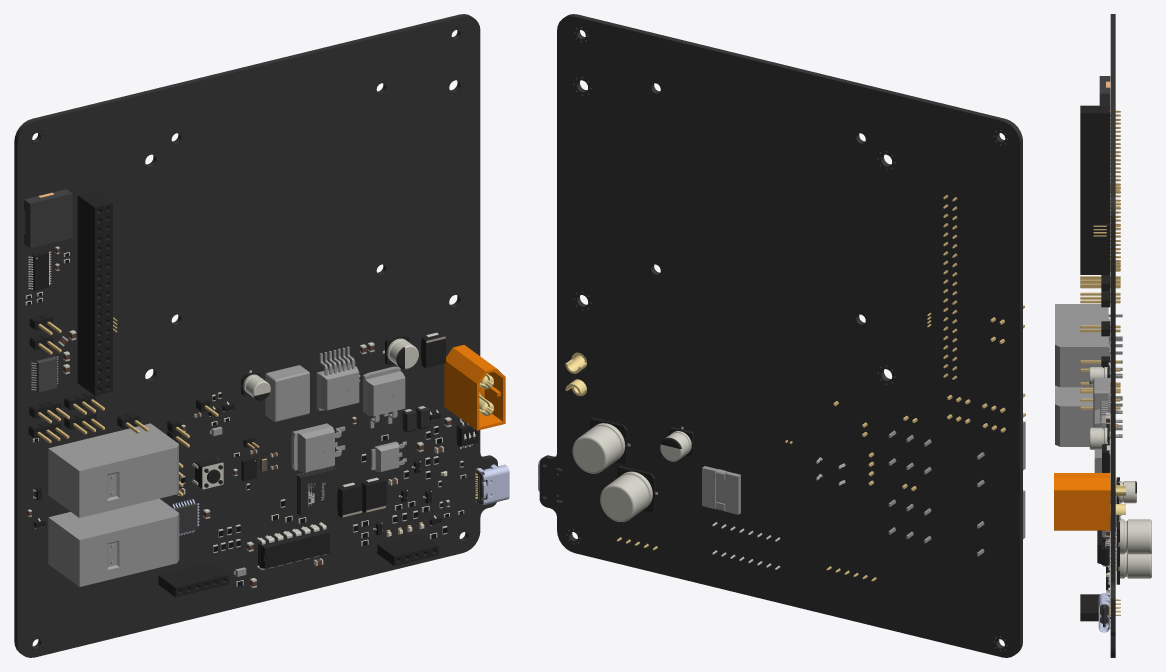
File: unibots.obj
The picture shows the model from 3 angles, left to right: view 1: azimuth 30°, elevation 25°; view 2: azimuth 150°, elevation 25°; view 3: azimuth 270°, elevation 25°; orthographic projection. The views are drawn at different scales.
Visible parts, largest first — view 1: Body1:46, Body1:31, Body1:138, Body1:12, Body3, Body3:6, Body1:11, Body1:24, Body1:34, Body1:30, Body1:132, Body1:22 (+10 smaller); view 2: Body1:46, Body1:154, Body1:45, Body1:33, Body1:153; view 3: Body1:12, Body1:31, Body1:46, Body3, Body1:138, Body1:154, Body1:45, Body1:32, Body1:123, Body1:24, Body1:27, Body1:101 (+14 smaller).
Part boxes in pixels (x1=…): Body1:46: x1=14, y1=14, x2=497, y2=657; Body1:31: x1=48, y1=423, x2=178, y2=517; Body1:138: x1=48, y1=498, x2=179, y2=586; Body1:12: x1=77, y1=191, x2=112, y2=395; Body3: x1=444, y1=345, x2=505, y2=430; Body3:6: x1=24, y1=189, x2=72, y2=248; Body1:11: x1=257, y1=522, x2=329, y2=570; Body1:24: x1=265, y1=365, x2=309, y2=421; Body1:34: x1=296, y1=466, x2=336, y2=515; Body1:30: x1=295, y1=423, x2=334, y2=472; Body1:132: x1=363, y1=371, x2=405, y2=416; Body1:22: x1=316, y1=364, x2=359, y2=410; Body1:46: x1=539, y1=14, x2=1022, y2=657; Body1:154: x1=572, y1=417, x2=630, y2=473; Body1:45: x1=600, y1=466, x2=657, y2=521; Body1:33: x1=702, y1=466, x2=740, y2=514; Body1:153: x1=660, y1=426, x2=693, y2=461; Body1:12: x1=1080, y1=105, x2=1120, y2=274; Body1:31: x1=1055, y1=304, x2=1122, y2=387; Body1:46: x1=1110, y1=14, x2=1115, y2=657; Body3: x1=1054, y1=473, x2=1110, y2=530; Body1:138: x1=1055, y1=373, x2=1122, y2=446; Body1:154: x1=1116, y1=515, x2=1151, y2=560; Body1:45: x1=1116, y1=551, x2=1151, y2=584; Body1:32: x1=1080, y1=594, x2=1120, y2=621; Body1:123: x1=1080, y1=290, x2=1120, y2=307; Body1:24: x1=1093, y1=378, x2=1110, y2=427; Body1:27: x1=1089, y1=424, x2=1110, y2=449; Body1:101: x1=1080, y1=275, x2=1120, y2=290.
Bounding box in the file's own units: 13.73 × 14.5 × 2.79.
